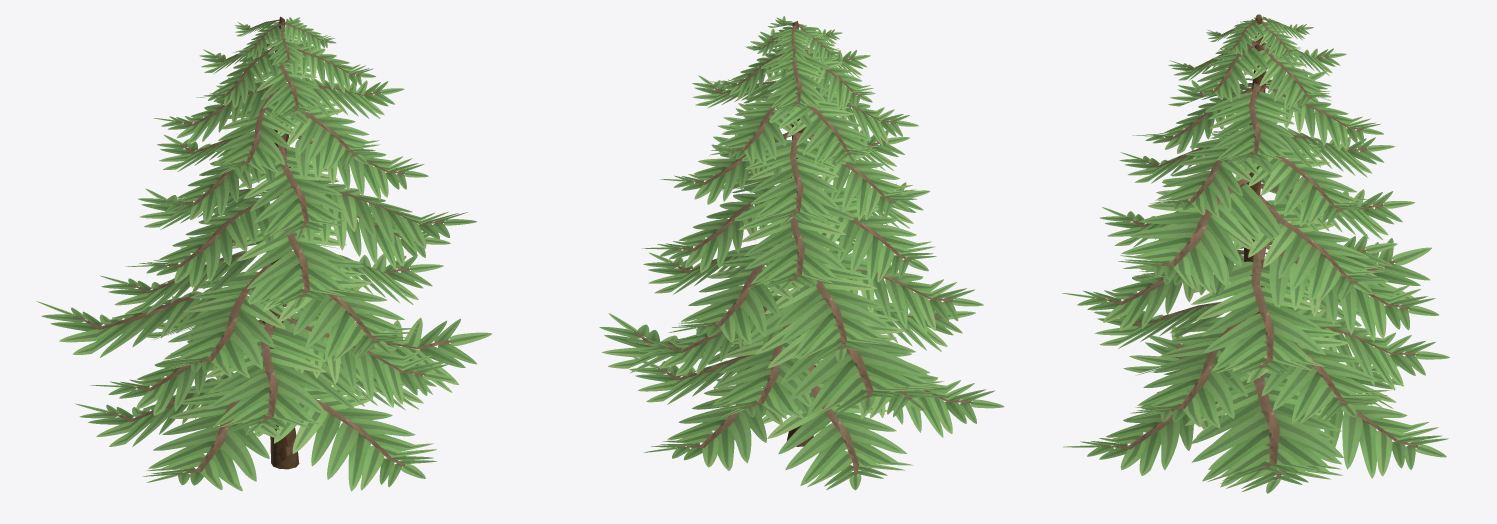
File: quaternius-textured-stylized-trees-pine-1.glb
3 renders of one model, left to right at view 1: azimuth 30°, elevation 25°; view 2: azimuth 150°, elevation 25°; view 3: azimuth 270°, elevation 25°, orthographic. The views are drawn at different scales.
Parts seen in each view (by area): view 1: Pine_1; view 2: Pine_1; view 3: Pine_1.
Boxes of the visible parts, bbox=[...] form: Pine_1: bbox=[36, 16, 491, 491]; Pine_1: bbox=[599, 16, 1004, 490]; Pine_1: bbox=[1062, 14, 1449, 493].
Size of the model in its own units: 7.73 by 7.58 by 6.76.
Materials: 2 (2 with a texture image).
